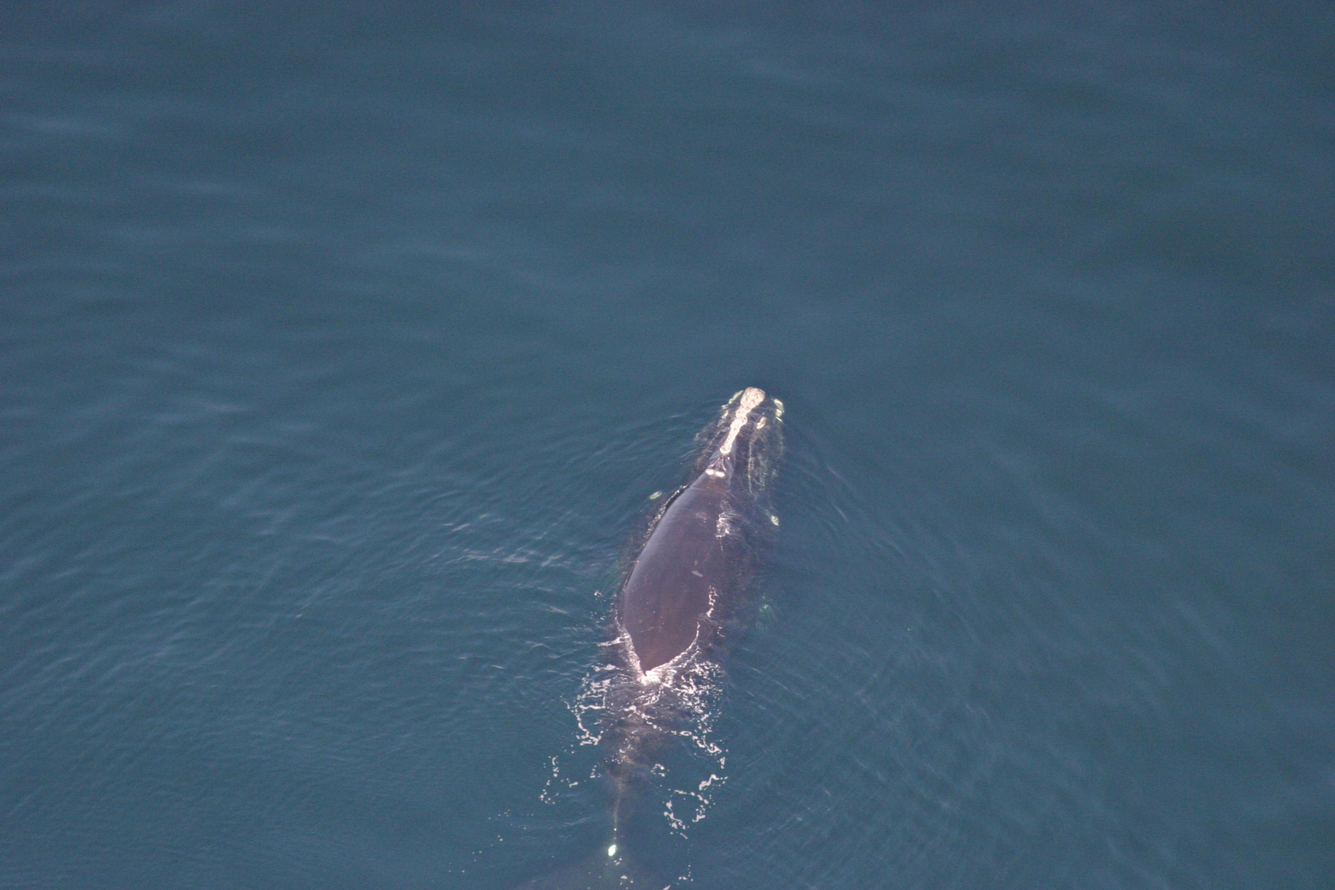whale: (519, 376, 800, 890)
